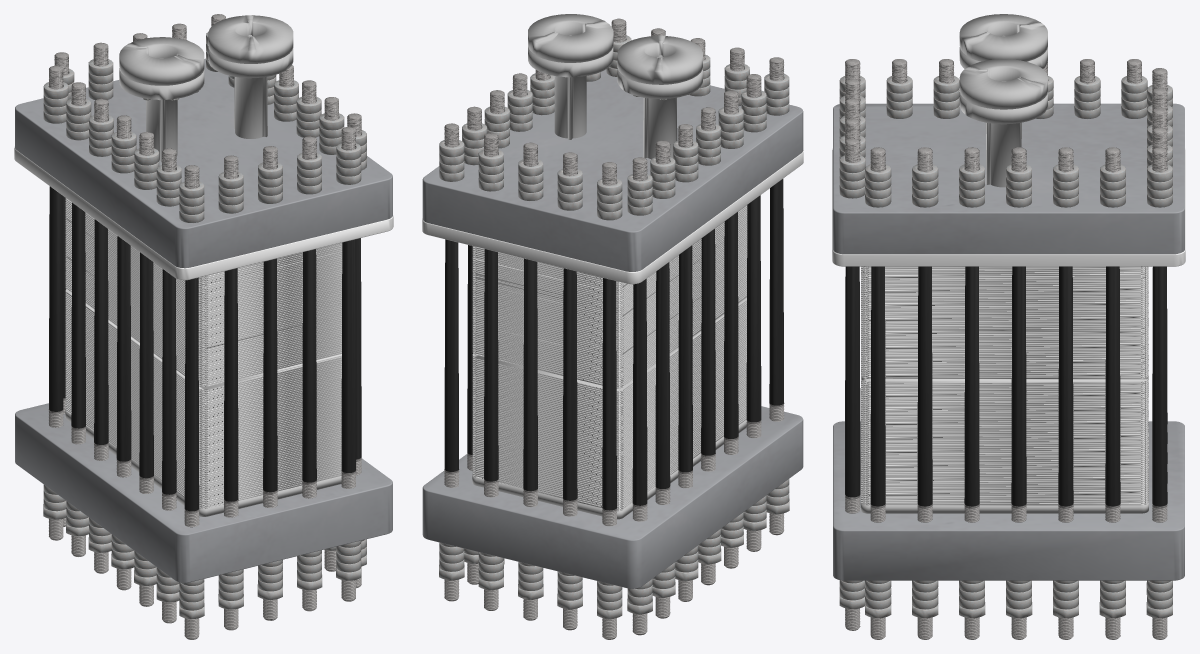
The picture shows the model from 3 angles, left to right: view 1: azimuth 30°, elevation 25°; view 2: azimuth 150°, elevation 25°; view 3: azimuth 270°, elevation 25°; orthographic projection. The views are drawn at different scales.
Parts seen in each view (by area): view 1: Plane001, Bolt001_2, Bipolar_Plate001, Nut, Circle, Bolt001_1, Plane018; view 2: Plane001, Bolt001_2, Bipolar_Plate001, Nut, Circle, Bolt001_1, Plane018; view 3: Plane001, Bipolar_Plate001, Bolt001_2, Nut, Circle, Bolt001_1, Plane018.
Boxes of the visible parts, x1,y1,x2,y2 form: Plane001: (15,58,392,582); Bolt001_2: (49,186,361,511); Bipolar_Plate001: (65,198,342,508); Nut: (43,32,366,618); Circle: (65,15,341,516); Bolt001_1: (48,14,361,639); Plane018: (14,147,393,280); Plane001: (422,69,803,588); Bolt001_2: (444,179,783,510); Bipolar_Plate001: (472,205,747,511); Nut: (439,35,789,618); Circle: (472,14,746,519); Bolt001_1: (444,18,784,639); Plane018: (422,150,803,284); Plane001: (833,103,1184,580); Bipolar_Plate001: (861,266,1148,505); Bolt001_2: (845,266,1167,506); Nut: (839,76,1172,618); Circle: (860,14,1148,513); Bolt001_1: (845,59,1167,639); Plane018: (832,149,1185,266).
Size of the model in its own units: 0.4385 by 1.01 by 0.5954.
Materials: 7 (3 with a texture image).
